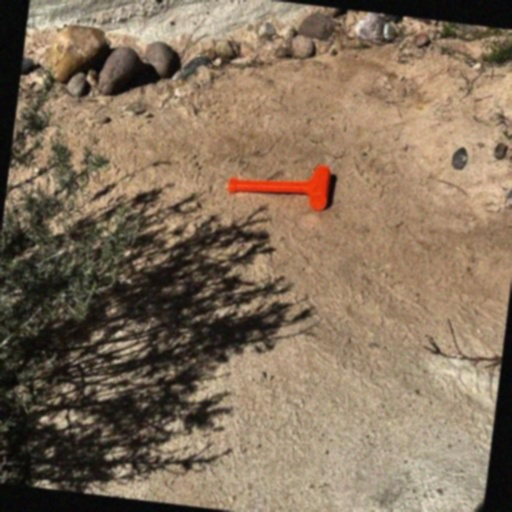mallet: (223, 151, 334, 213)
